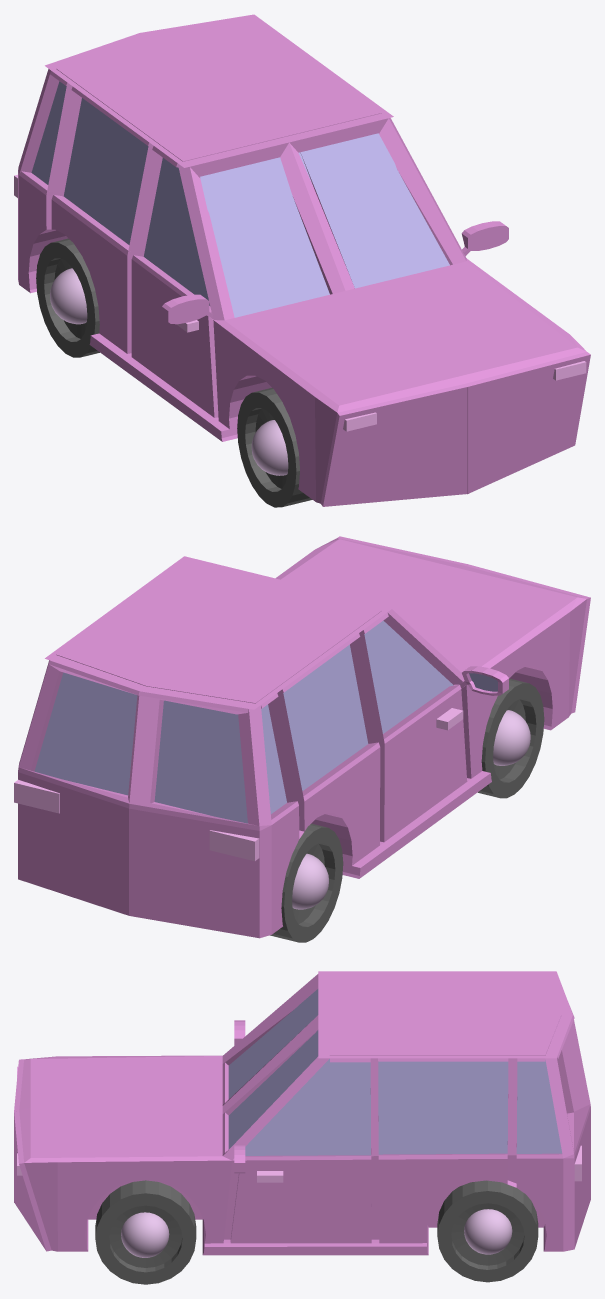
Rendered from gumballCar.fbx.
3 views of the same model, one above another, from view 1: azimuth 30°, elevation 25°; view 2: azimuth 150°, elevation 25°; view 3: azimuth 270°, elevation 25° (orthographic). The views are drawn at different scales.
Visible parts, largest first — view 1: CarBase, Windows, Wheels, Gumball, FrontLights; view 2: CarBase, Windows, Wheels, Gumball, BackLights; view 3: CarBase, Windows, Wheels, Gumball.
Part boxes in pixels (x1,y1,x2,y2): CarBase: [18, 14, 590, 506]; Windows: [31, 81, 449, 317]; Wheels: [36, 238, 312, 507]; Gumball: [50, 268, 288, 475]; FrontLights: [343, 361, 586, 431]; CarBase: [18, 536, 590, 938]; Windows: [34, 620, 453, 823]; Wheels: [270, 678, 544, 942]; Gumball: [292, 710, 530, 909]; BackLights: [14, 779, 259, 861]; CarBase: [14, 971, 590, 1255]; Windows: [228, 989, 562, 1155]; Wheels: [95, 1180, 538, 1284]; Gumball: [121, 1209, 512, 1257].
Size of the model in its own units: 553 by 399 by 953.
